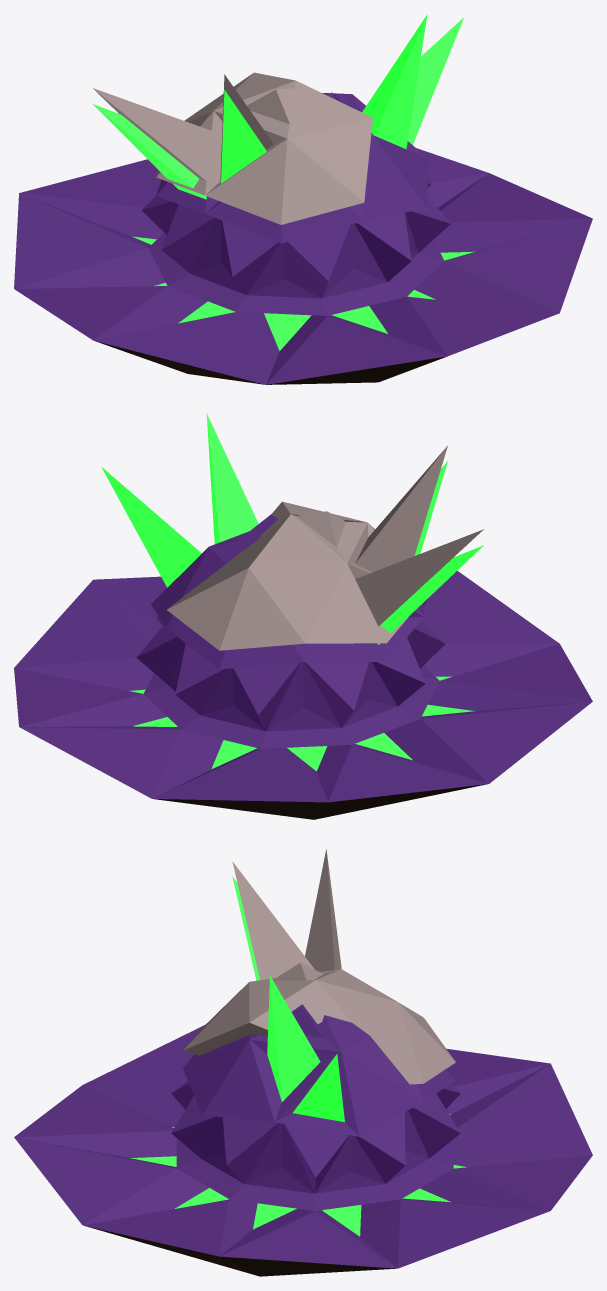
The model's file is Ufo.fbx.
3 renders of one model, top to bottom at view 1: azimuth 30°, elevation 25°; view 2: azimuth 150°, elevation 25°; view 3: azimuth 270°, elevation 25°, orthographic. The views are drawn at different scales.
Parts seen in each view (by area): view 1: Ufo, Icosphere.002; view 2: Ufo, Icosphere.002; view 3: Ufo, Icosphere.002.
Boxes of the visible parts, left/top/right/bottom form: Ufo: left=14, top=15, right=592, bottom=384; Icosphere.002: left=93, top=72, right=372, bottom=224; Ufo: left=14, top=413, right=592, bottom=819; Icosphere.002: left=167, top=445, right=483, bottom=650; Ufo: left=14, top=876, right=592, bottom=1276; Icosphere.002: left=183, top=849, right=455, bottom=1084.
Bounding box in the file's own units: 1983 × 1251 × 2034.
